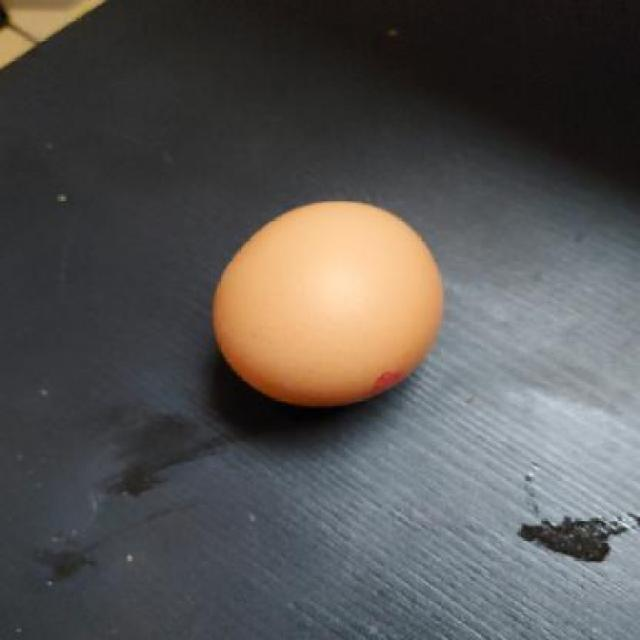biodegradable: (212, 198, 454, 412)
